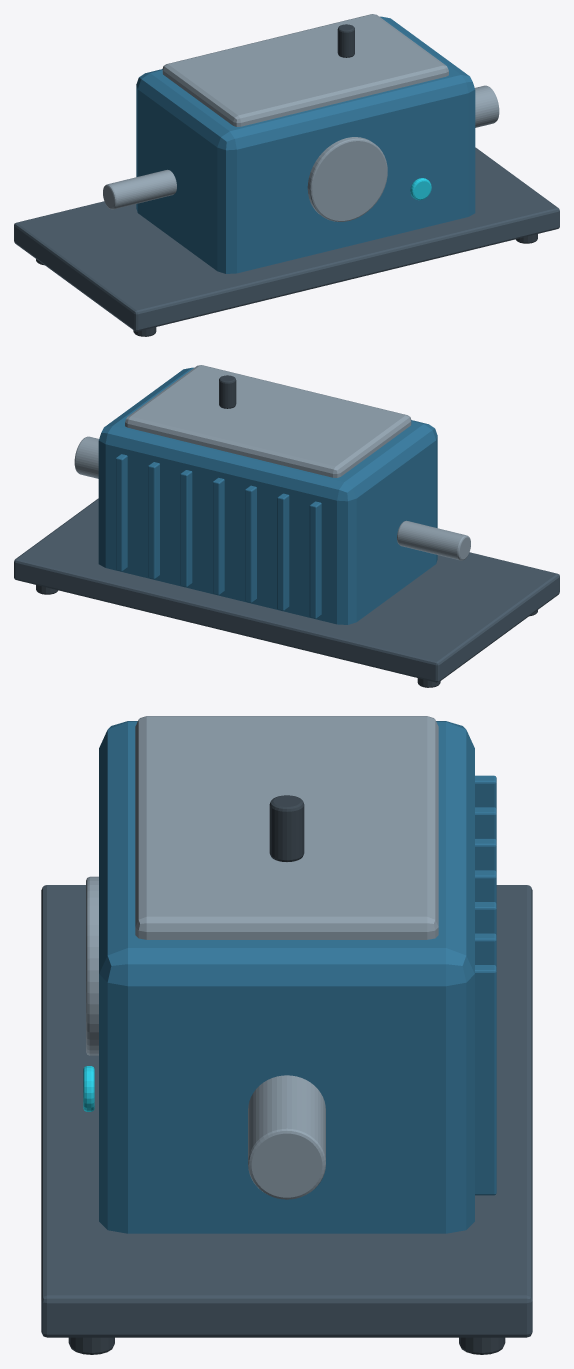
File: grate-gearbox-lod0.glb
3 views of the same model, one above another, from view 1: azimuth 30°, elevation 25°; view 2: azimuth 150°, elevation 25°; view 3: azimuth 270°, elevation 25° (orthographic). The views are drawn at different scales.
Parts seen in each view (by area): view 1: gearbox_housing, drive_base, gearbox_top_cover, gearbox_inspection_cover, gearbox_input_shaft, gearbox_output_shaft, gearbox_breather; view 2: gearbox_housing, drive_base, gearbox_top_cover, gearbox_input_shaft, gearbox_cooling_rib_01, gearbox_cooling_rib_00, gearbox_cooling_rib_04, gearbox_cooling_rib_02, gearbox_cooling_rib_05, gearbox_cooling_rib_06, gearbox_cooling_rib_03, gearbox_output_shaft (+1 smaller); view 3: gearbox_housing, drive_base, gearbox_top_cover, gearbox_output_shaft, gearbox_cooling_rib_06, gearbox_inspection_cover, gearbox_breather.
Part boxes in pixels (box(x1,y1,x2,y2)): gearbox_housing: box(136, 16, 475, 273); drive_base: box(14, 147, 559, 331); gearbox_top_cover: box(162, 14, 448, 126); gearbox_inspection_cover: box(307, 137, 387, 221); gearbox_input_shaft: box(103, 169, 176, 209); gearbox_output_shaft: box(475, 85, 499, 127); gearbox_breather: box(337, 24, 354, 57); gearbox_housing: box(98, 367, 437, 624); drive_base: box(14, 498, 559, 682); gearbox_top_cover: box(125, 365, 411, 477); gearbox_input_shaft: box(397, 520, 470, 560); gearbox_cooling_rib_01: box(277, 493, 289, 610); gearbox_cooling_rib_00: box(309, 501, 321, 618); gearbox_cooling_rib_04: box(180, 470, 192, 587); gearbox_cooling_rib_02: box(245, 485, 256, 602); gearbox_cooling_rib_05: box(148, 462, 159, 579); gearbox_cooling_rib_06: box(116, 454, 127, 571); gearbox_cooling_rib_03: box(213, 477, 224, 594); gearbox_output_shaft: box(74, 436, 98, 478); gearbox_housing: box(99, 721, 474, 1233); drive_base: box(41, 885, 532, 1337); gearbox_top_cover: box(135, 716, 438, 939); gearbox_output_shaft: box(248, 1075, 325, 1199); gearbox_cooling_rib_06: box(475, 965, 496, 1195); gearbox_inspection_cover: box(86, 876, 98, 1055); gearbox_breather: box(269, 795, 304, 861).
Size of the model in its own units: 6.8 by 3.18 by 3.4.
